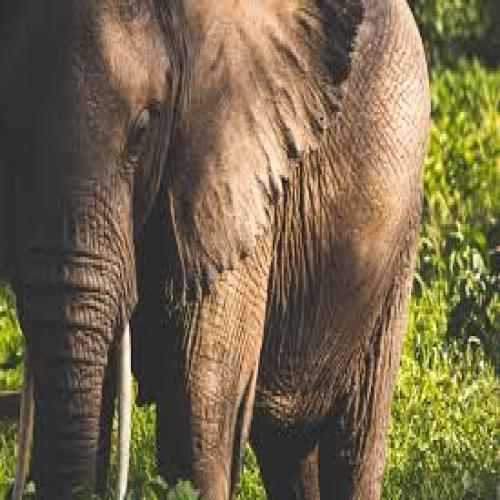asian_elephant-endangered: (9, 15, 431, 498)
